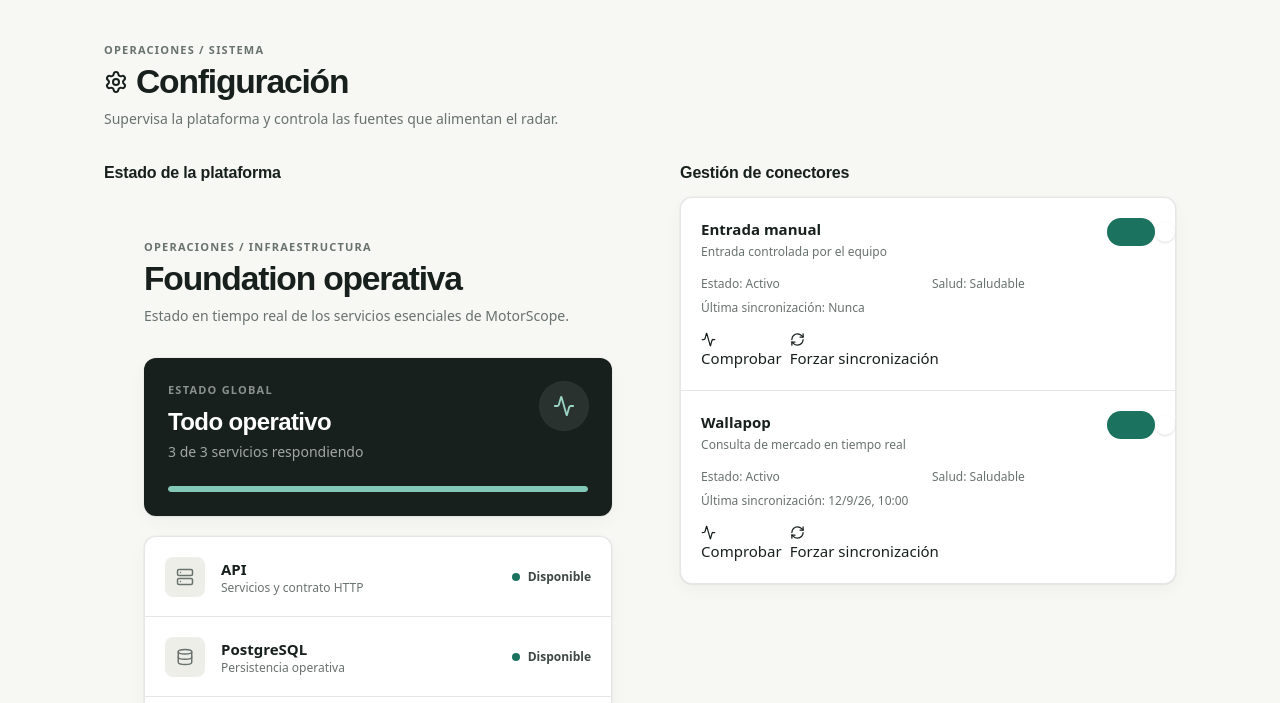
allows an owner to force a Wallapop synchronization
expect the heading "Wallapop" is shown: met, box [701, 412, 771, 432]
Click the button with aria-label "Forzar sincronización de Wallapop": [864, 544] box [790, 526, 939, 563]
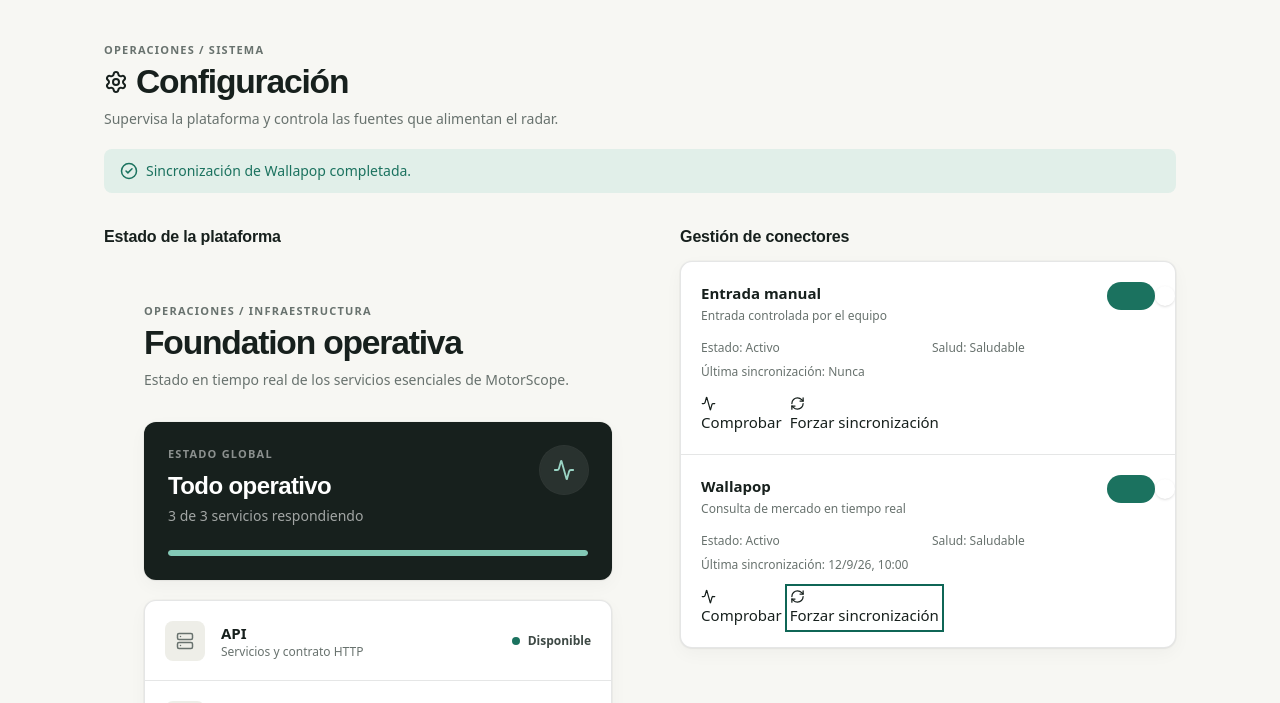
expect the message shows "Sincronización de Wallapop completada": met, box [146, 161, 411, 180]
